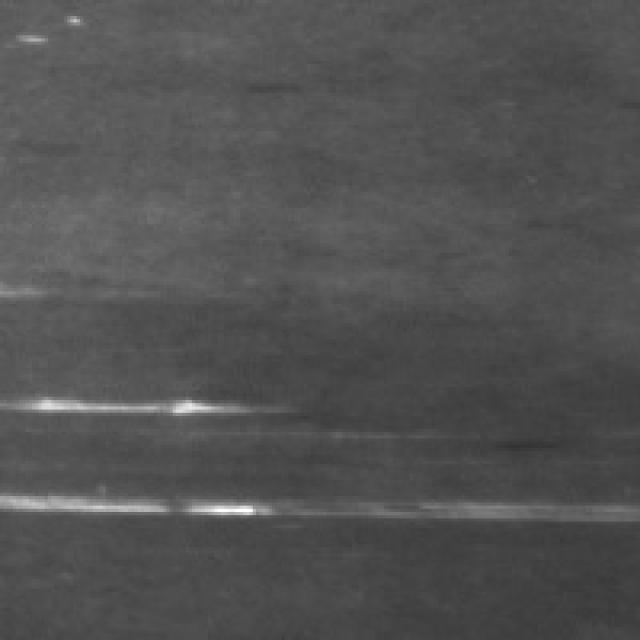scratches: (0, 474, 627, 524), (0, 387, 294, 422)
